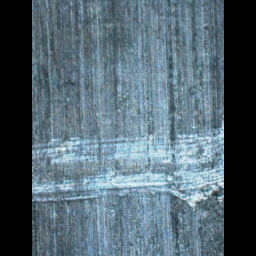d: (32, 119, 223, 214)
